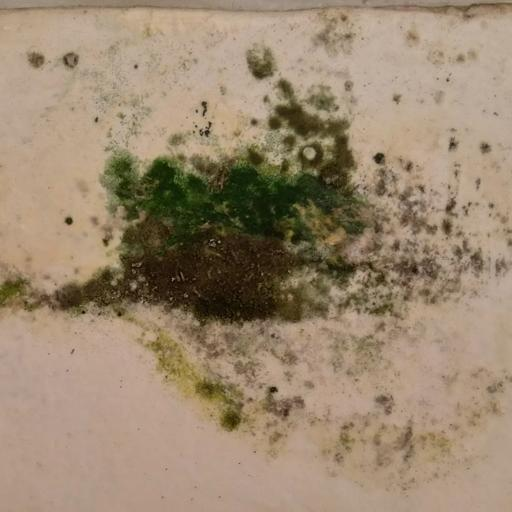algae: (21, 48, 498, 469)
